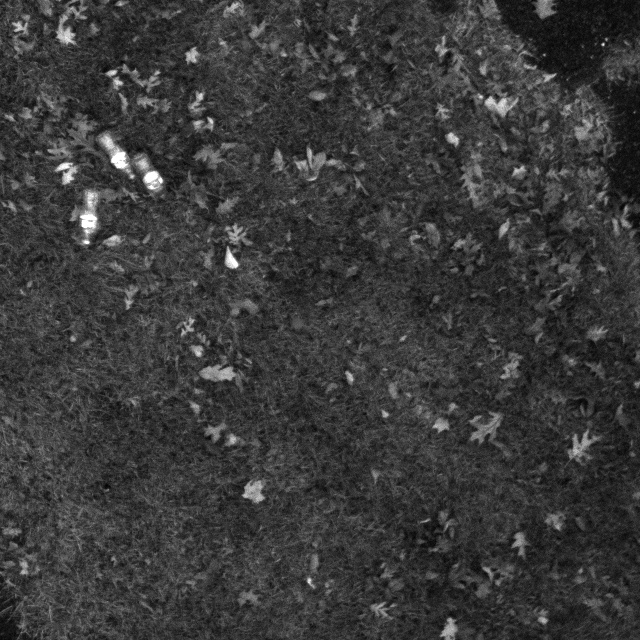bottle: (71, 184, 107, 253), (97, 132, 143, 182), (133, 151, 174, 197)
